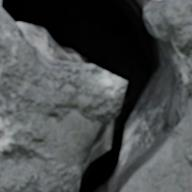broken_brick: (0, 9, 124, 191), (126, 112, 191, 191), (145, 0, 191, 103)
crack: (0, 0, 191, 191)
